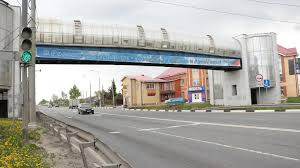tl: (21, 25, 35, 65)
